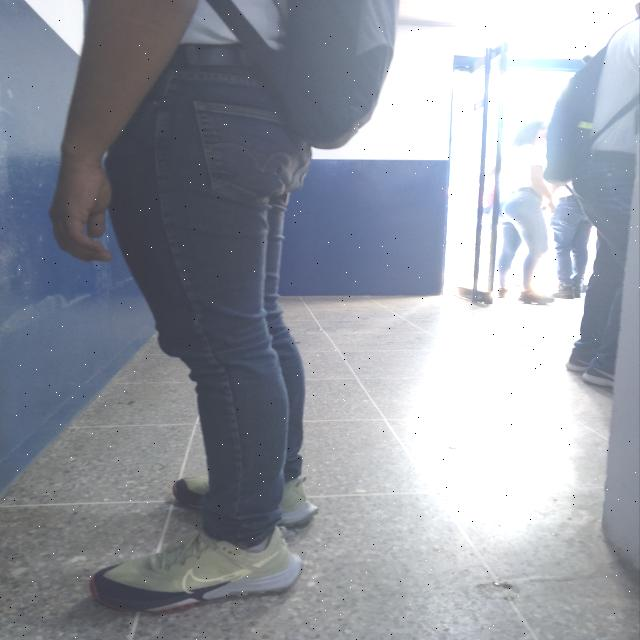pantalon_oscuro: (103, 64, 304, 550)
